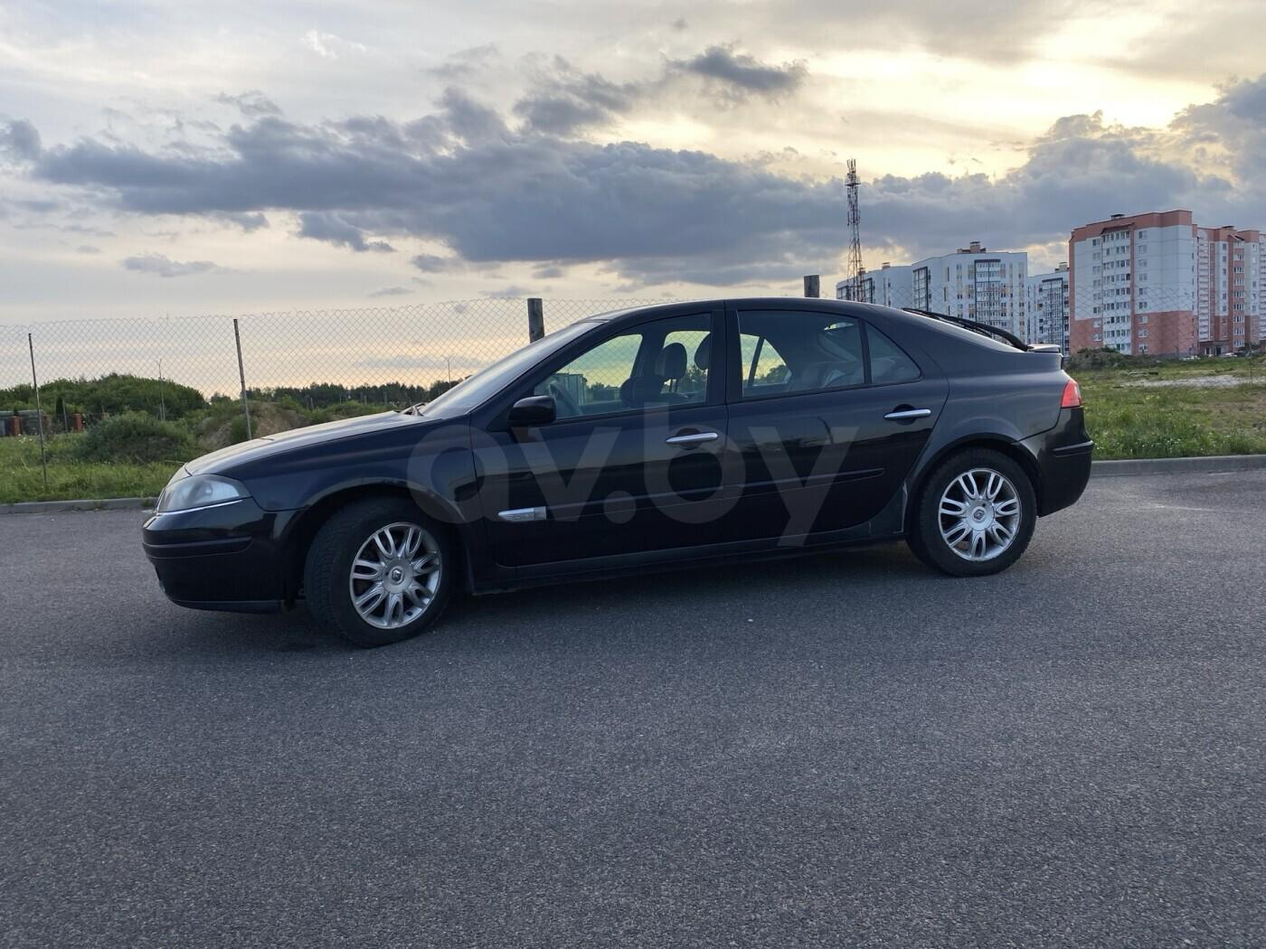Laguna_2005-2007: (136, 289, 1101, 664)
